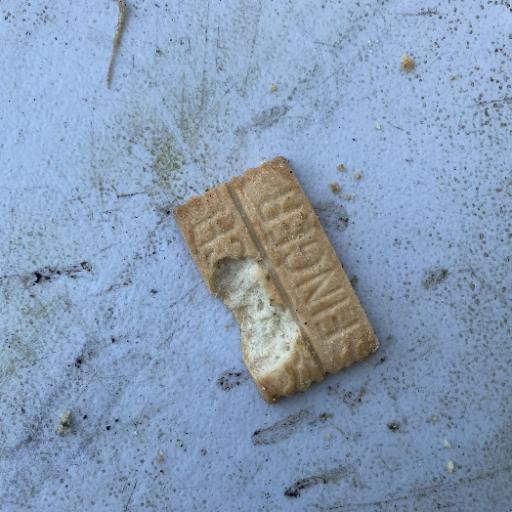Waste: (170, 154, 381, 404)
